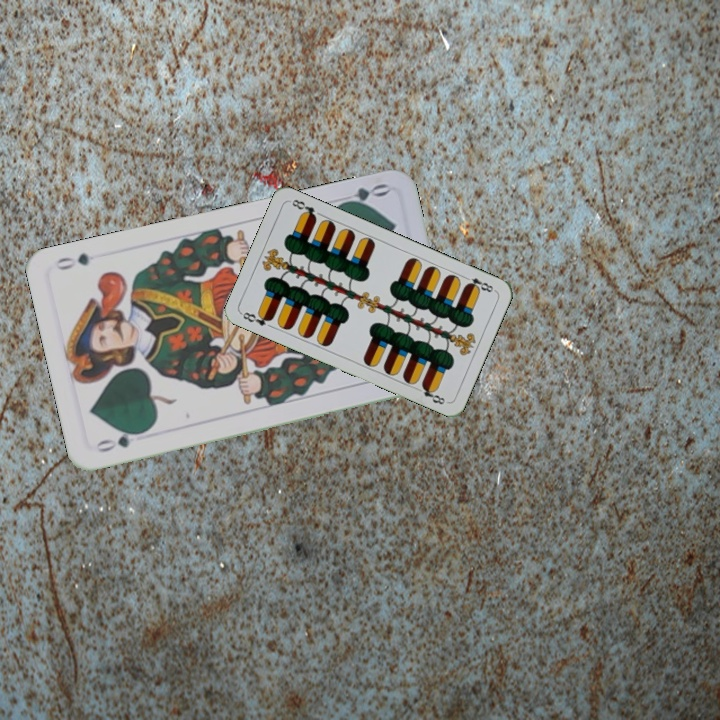E8: (459, 272, 498, 295), (238, 308, 275, 329)
GO: (333, 179, 391, 209), (92, 427, 148, 455)
